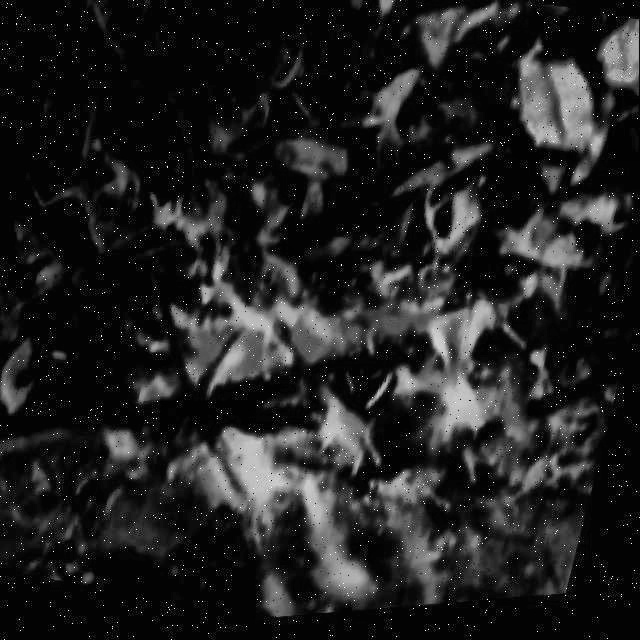Fire: (75, 171, 626, 635)
